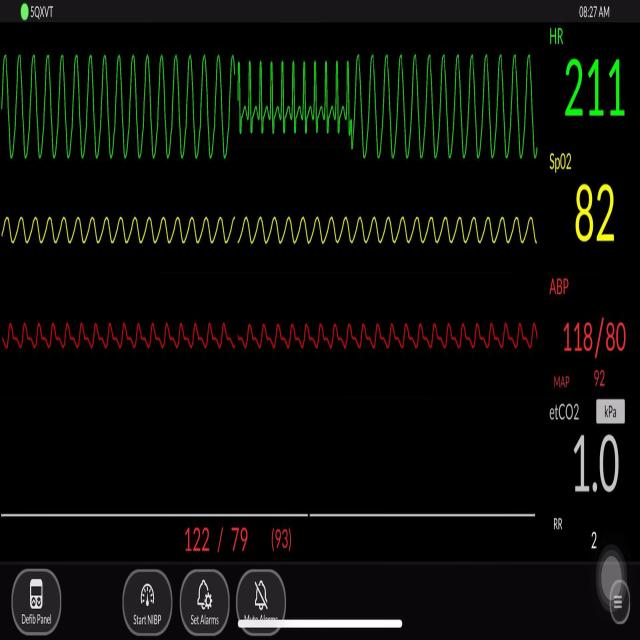danger: (5, 40, 238, 176), (375, 32, 550, 176), (247, 51, 365, 144)
